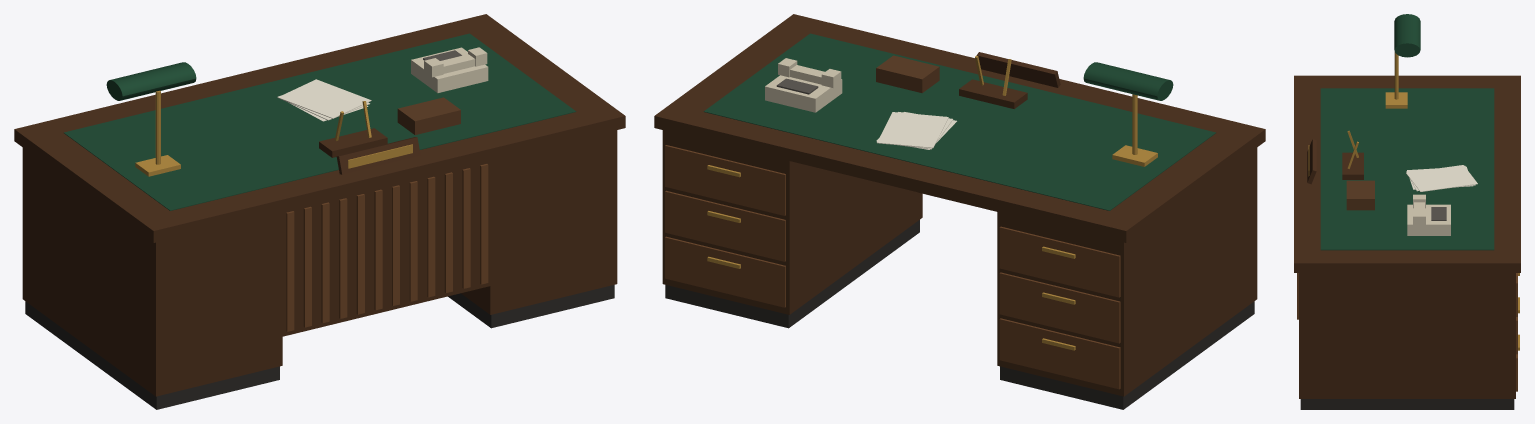
The model's file is SM_80s_ExecDesk.glb.
3 renders of one model, left to right at view 1: azimuth 30°, elevation 25°; view 2: azimuth 150°, elevation 25°; view 3: azimuth 270°, elevation 25°, orthographic. The views are drawn at different scales.
Visible parts, largest first — view 1: SM_80s_ExecDesk; view 2: SM_80s_ExecDesk; view 3: SM_80s_ExecDesk.
Boxes of the visible parts, bbox=[...] form: SM_80s_ExecDesk: bbox=[14, 14, 625, 409]; SM_80s_ExecDesk: bbox=[654, 14, 1265, 409]; SM_80s_ExecDesk: bbox=[1294, 14, 1520, 409].
Bounding box in the file's own units: 2.7 × 1.5 × 1.38.
